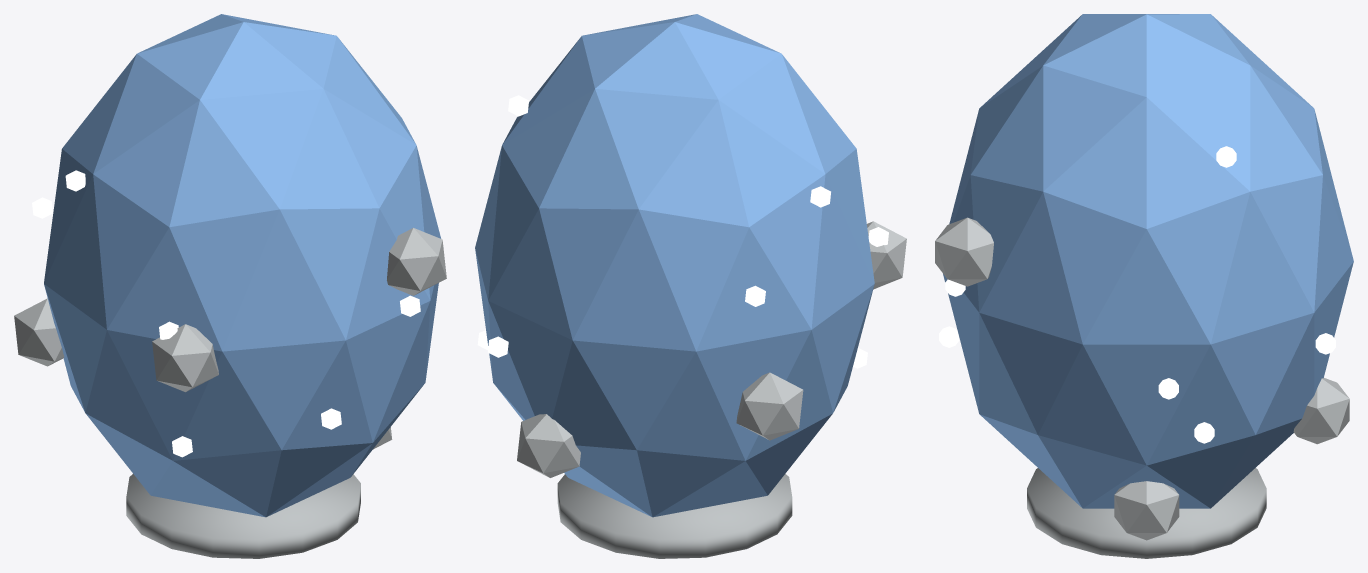
Rendered from egg_lake_08.glb.
3 views of the same model, side by side, from view 1: azimuth 30°, elevation 25°; view 2: azimuth 150°, elevation 25°; view 3: azimuth 270°, elevation 25° (orthographic).
Parts seen in each view (by area): view 1: ico; view 2: ico; view 3: ico.
Boxes of the visible parts, x1=… form: ico: x1=14, y1=14, x2=446, y2=558; ico: x1=475, y1=14, x2=906, y2=558; ico: x1=935, y1=14, x2=1353, y2=558.
Size of the model in its own units: 0.7715 by 1 by 0.7685.
